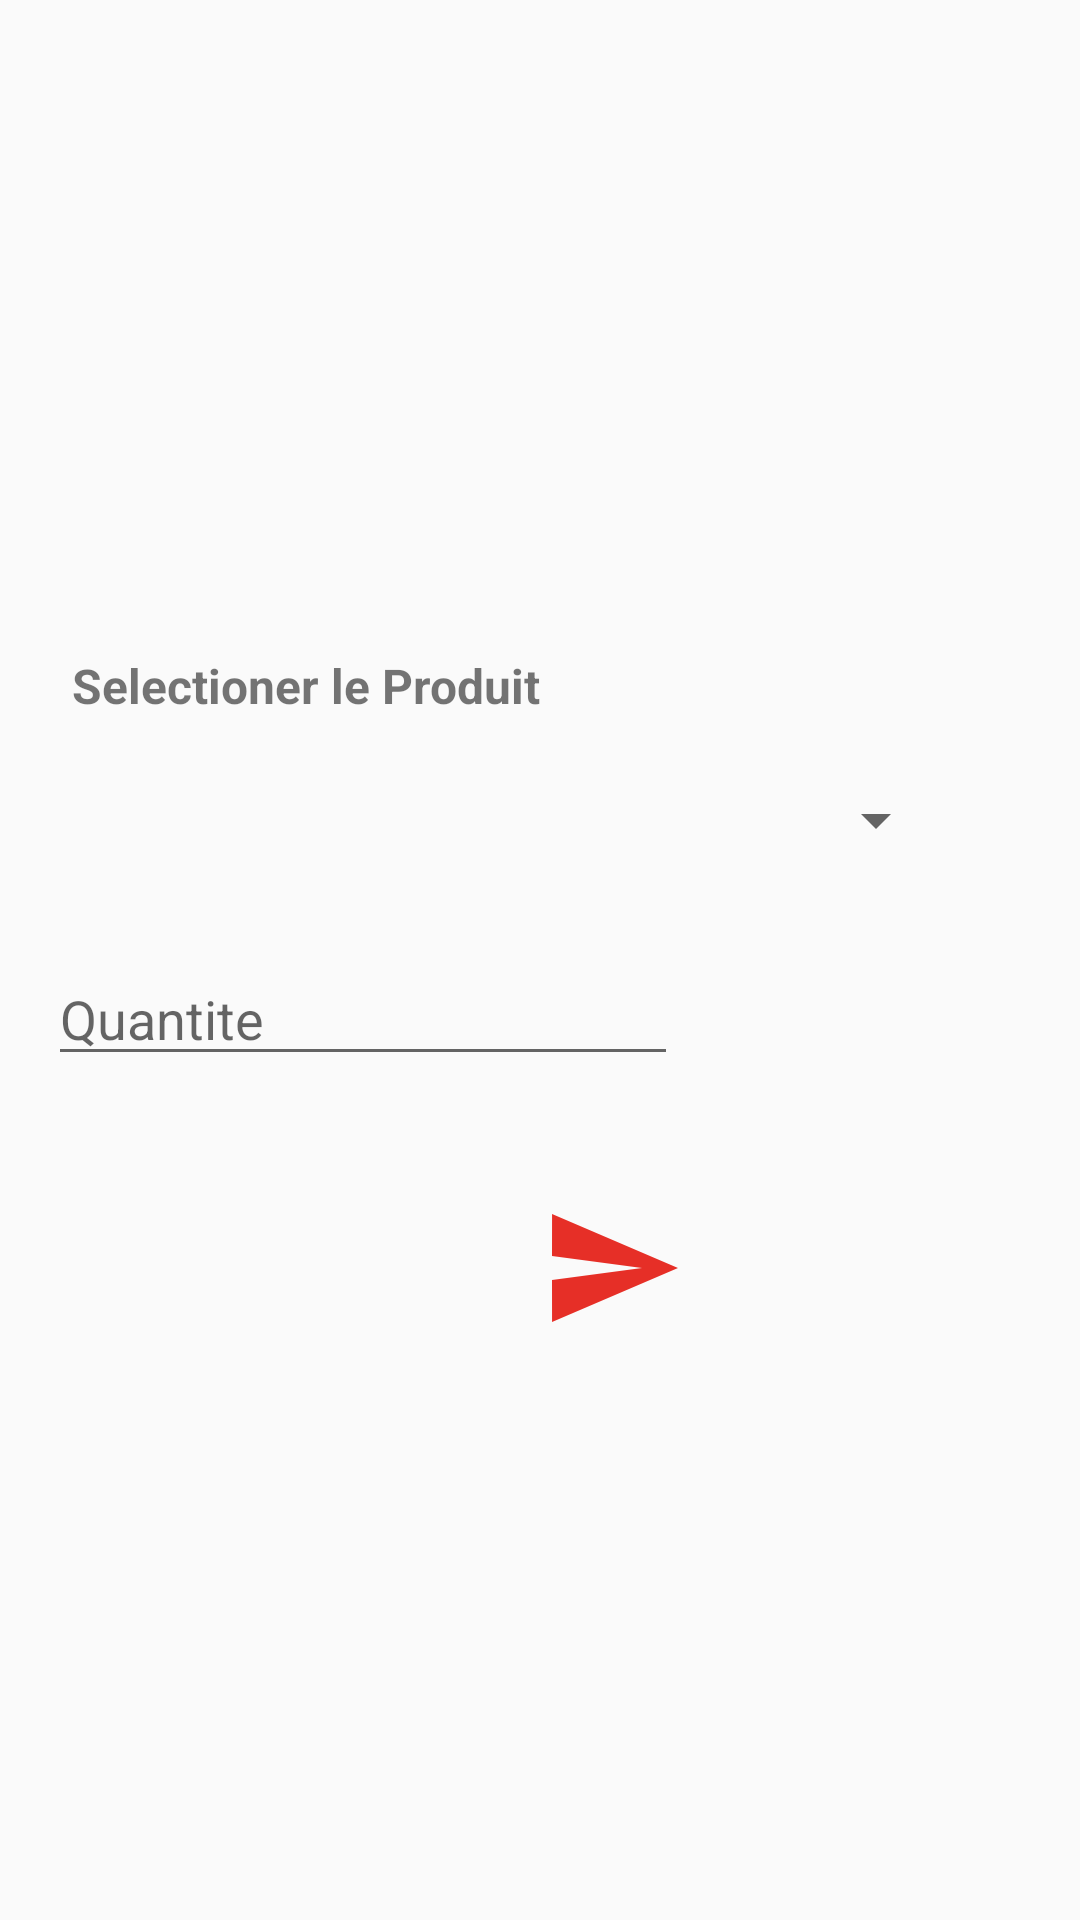

Where icons sit on this 1080 x 1920 app screen, as {"left": x1, "top": y1, "right": x2, "bottom": y2}:
send: {"left": 552, "top": 1214, "right": 678, "bottom": 1322}
